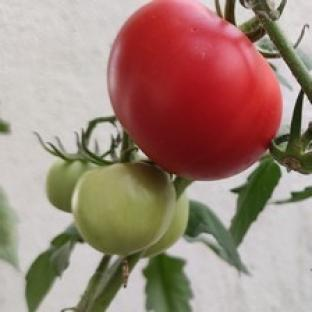Tomato: (73, 163, 175, 256), (144, 193, 189, 257), (46, 159, 94, 211)
